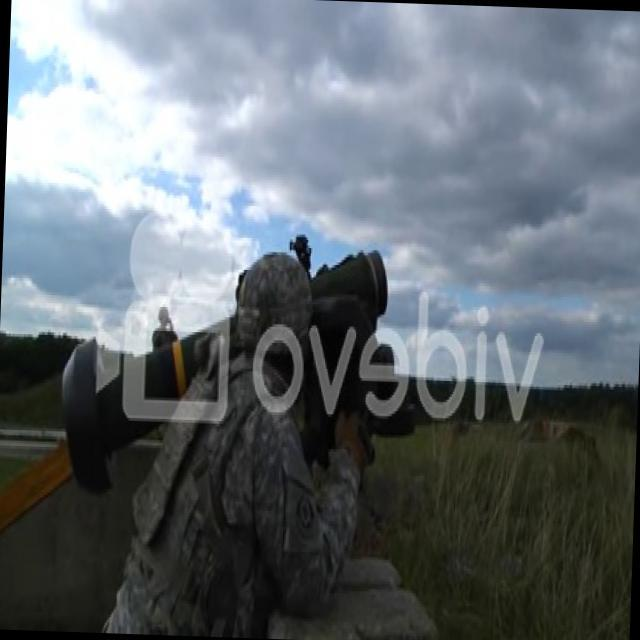rocket: (58, 314, 240, 496)
